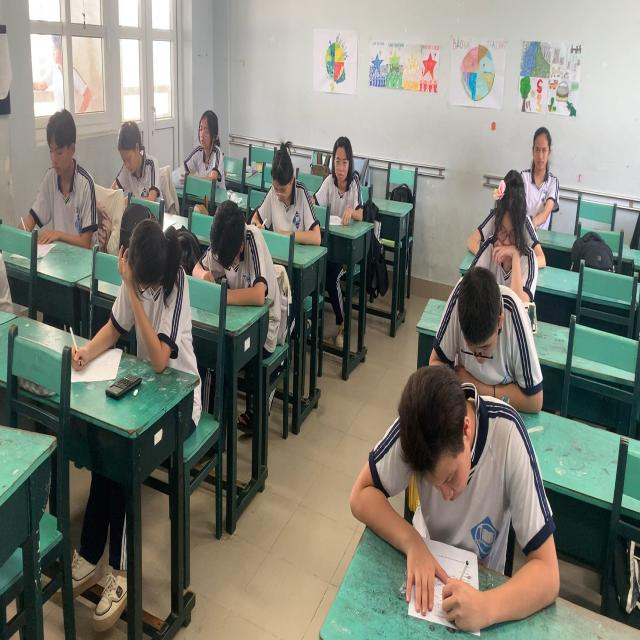not_cheating: (373, 364, 532, 614), (119, 212, 184, 378), (195, 189, 266, 316), (33, 106, 85, 233), (260, 129, 310, 247), (480, 178, 536, 274), (451, 264, 503, 364), (107, 105, 157, 205), (173, 92, 229, 178), (320, 126, 360, 212), (522, 125, 556, 185)
